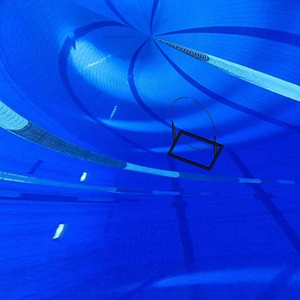circle: (167, 95, 225, 174)
